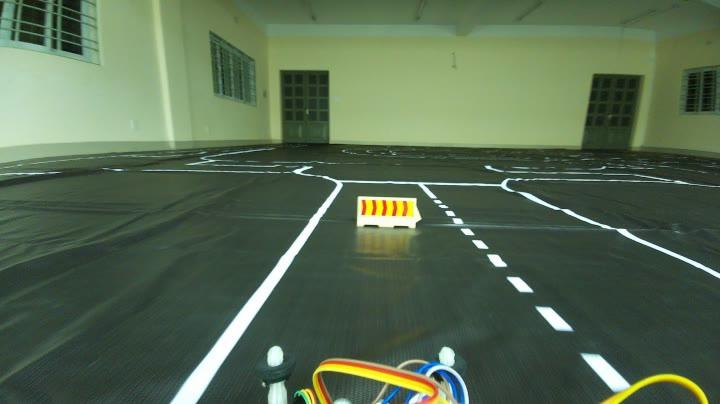roadblock: (353, 192, 425, 234)
